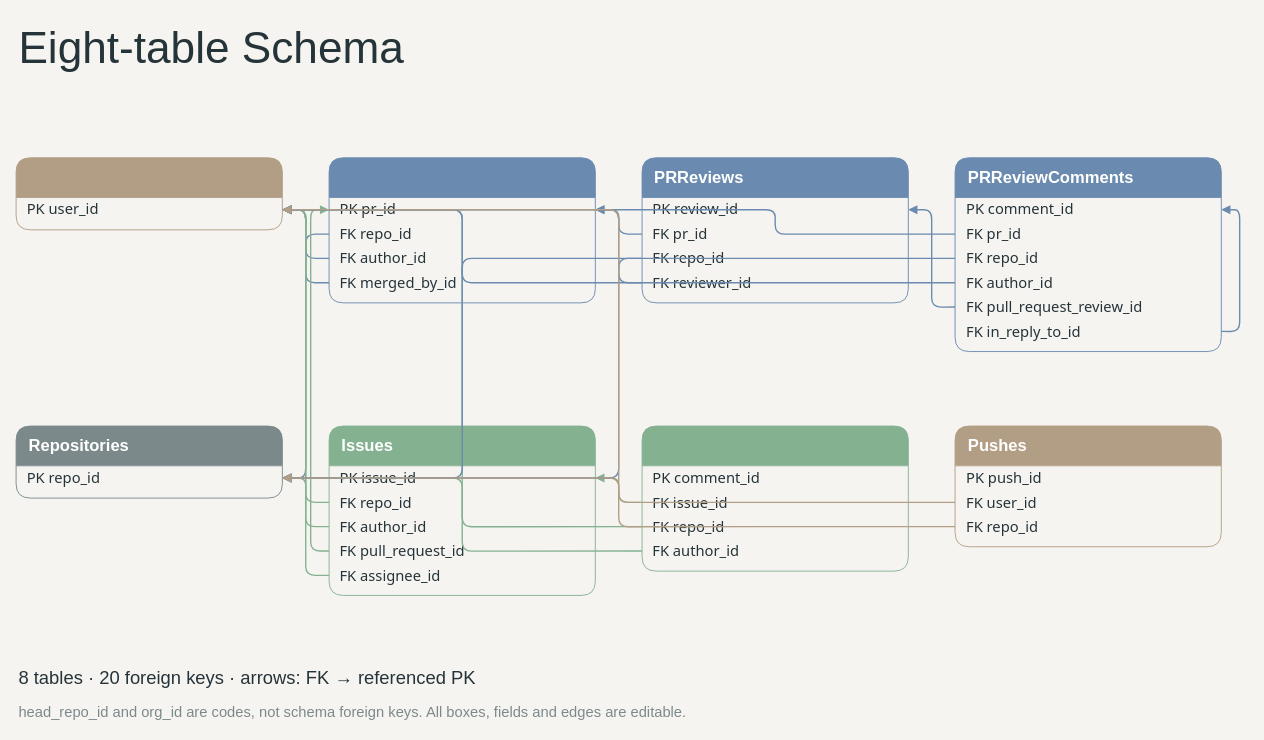
The diagram is 1264 pixels wide and 740 high, and some of its shapes have lost their labels. Each missing label, with the box of its shape:
IssueComments: (641, 425, 908, 571)
PullRequests: (328, 157, 595, 303)
Users: (15, 157, 282, 230)
